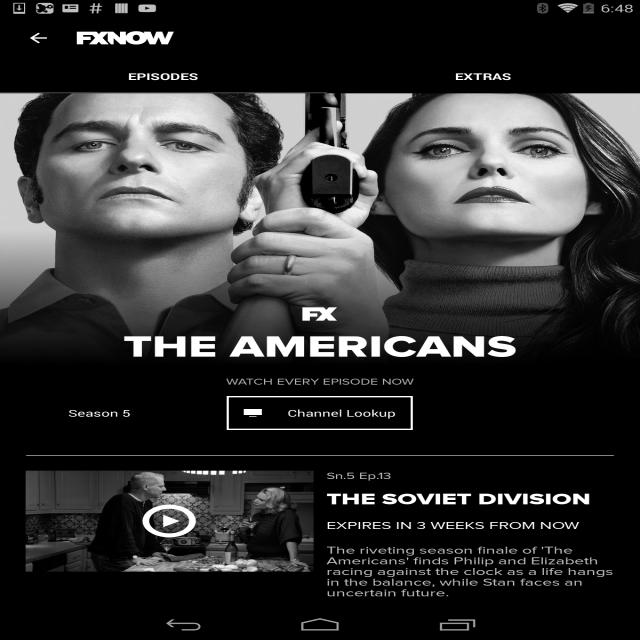Button: (226, 396, 412, 430)
ImageButton: (9, 17, 68, 59)
ImageView: (0, 93, 640, 366), (25, 471, 314, 572), (142, 505, 197, 537), (68, 31, 174, 45), (302, 306, 338, 321)
Spinner: (26, 395, 173, 431)
TextView: (26, 329, 614, 366), (326, 544, 614, 599), (0, 60, 327, 94), (327, 60, 640, 94), (26, 377, 614, 387), (326, 490, 614, 509), (326, 519, 614, 532), (326, 607, 614, 620), (326, 471, 614, 482), (63, 403, 136, 423)
